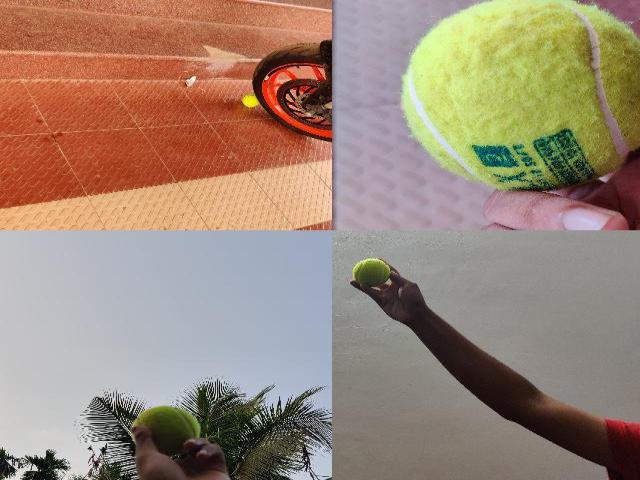tennis-ball: (400, 0, 639, 193), (130, 406, 200, 454), (352, 258, 390, 286), (242, 94, 254, 107)
